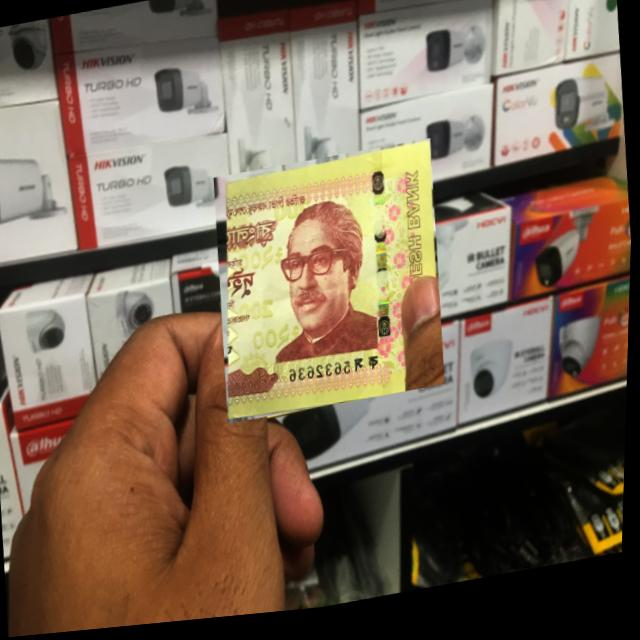Taka: (209, 145, 453, 430)
